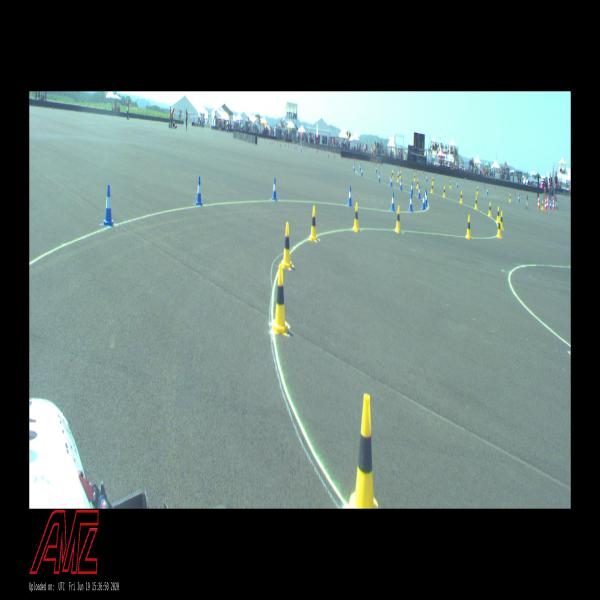blue_cone: (102, 186, 115, 227), (194, 177, 203, 206), (271, 178, 277, 200), (408, 195, 413, 212), (348, 186, 352, 207), (390, 192, 394, 211), (422, 193, 425, 210), (425, 190, 428, 206), (399, 178, 402, 190), (410, 183, 413, 194), (418, 185, 420, 198), (390, 176, 392, 187), (378, 172, 380, 182), (456, 180, 458, 188), (353, 164, 355, 172), (359, 163, 361, 171), (361, 166, 362, 176), (550, 201, 551, 209), (518, 194, 519, 202), (487, 187, 488, 195), (426, 175, 427, 181)
large_orange_cone: (537, 197, 540, 209), (552, 196, 554, 210), (544, 197, 546, 210), (546, 196, 548, 209)
yellow_cone: (346, 394, 379, 508), (271, 264, 288, 335), (281, 222, 292, 269), (309, 205, 317, 241), (352, 202, 359, 231), (395, 205, 401, 233), (466, 215, 472, 239), (496, 217, 502, 238), (499, 211, 504, 230), (488, 201, 492, 216), (496, 206, 499, 222), (474, 195, 477, 209), (541, 200, 544, 210), (443, 185, 445, 198), (431, 181, 433, 194), (413, 173, 416, 181), (460, 191, 462, 202), (416, 178, 418, 189), (391, 170, 393, 180), (450, 180, 452, 189), (397, 173, 399, 182), (399, 170, 401, 179), (509, 193, 511, 202), (432, 177, 434, 185)
